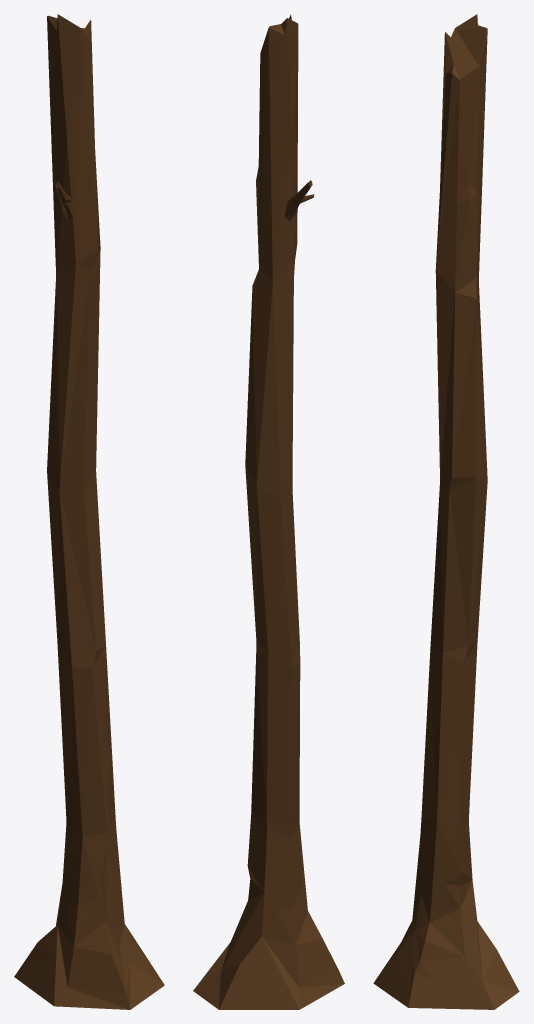
Rendered from SM_Tree_Birch_Broken_A.fbx.
3 views of the same model, side by side, from view 1: azimuth 90°, elevation 25°; view 2: azimuth 150°, elevation 25°; view 3: azimuth 270°, elevation 25° (orthographic). The views are drawn at different scales.
Visible parts, largest first — view 1: tree-birch-broken-a; view 2: tree-birch-broken-a; view 3: tree-birch-broken-a.
Boxes of the visible parts, <box> form: tree-birch-broken-a: <box>14,14,164,1009</box>; tree-birch-broken-a: <box>193,14,344,1009</box>; tree-birch-broken-a: <box>373,14,519,1009</box>.
Bounding box in the file's own units: 0.6094 × 5.24 × 0.7272.
